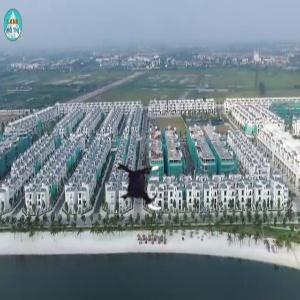drone: (108, 149, 178, 219)
